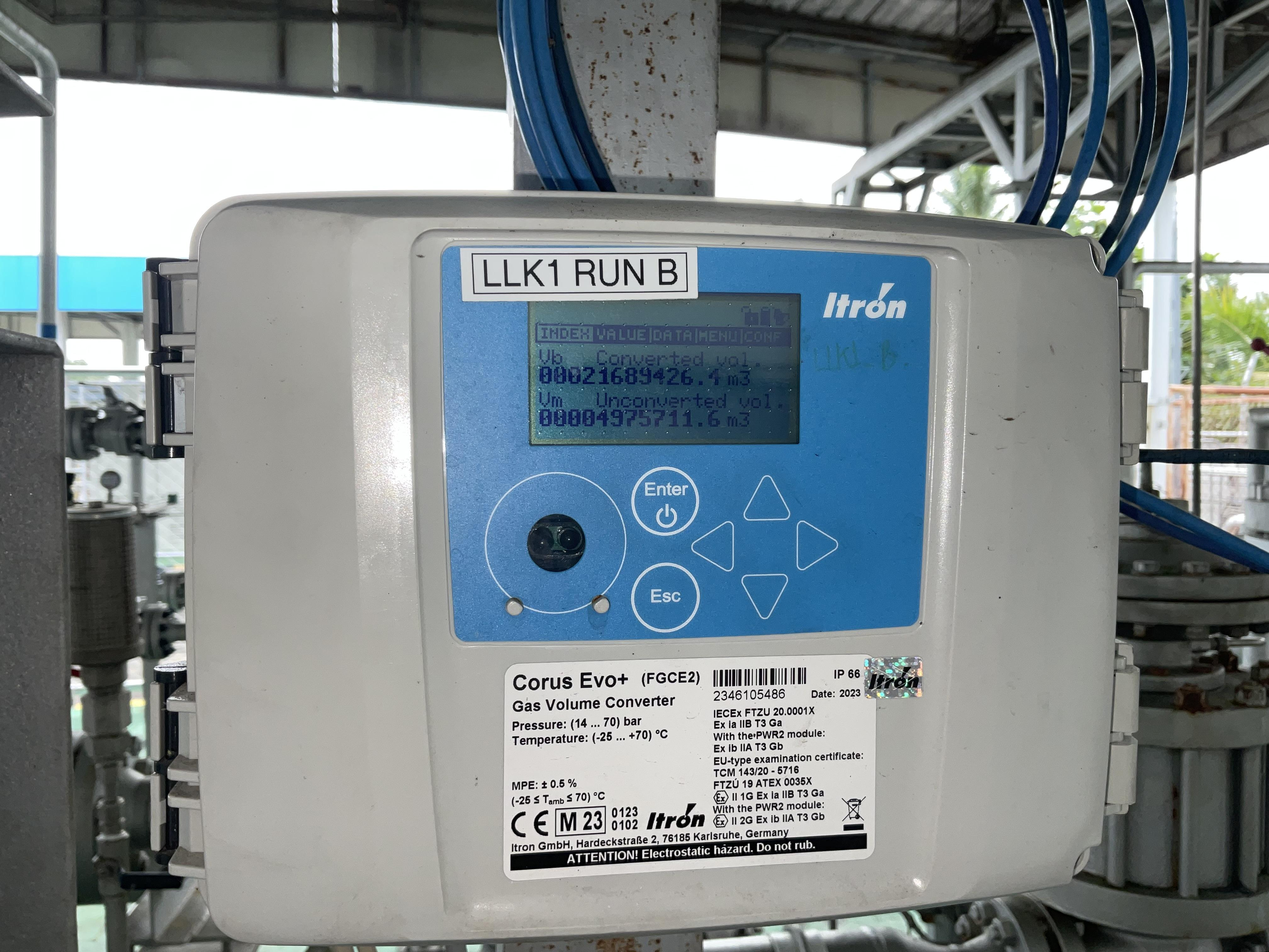digital_screen: (529, 292, 801, 446)
